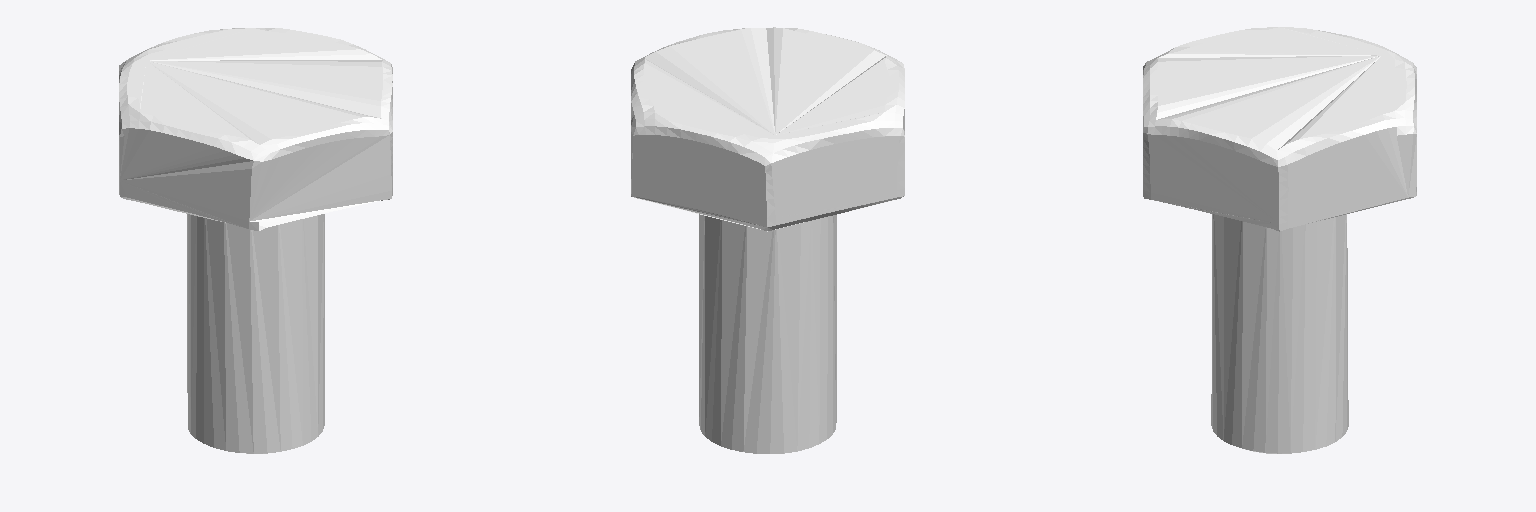
The model's file is bolt.obj.
3 views of the same model, side by side, from view 1: azimuth 30°, elevation 25°; view 2: azimuth 150°, elevation 25°; view 3: azimuth 270°, elevation 25° (orthographic).
Parts seen in each view (by area): view 1: Volume7; view 2: Volume7; view 3: Volume7.
Boxes of the visible parts, <box> form: Volume7: <box>119,28,392,453</box>; Volume7: <box>631,27,904,453</box>; Volume7: <box>1143,27,1416,453</box>.
Bounding box in the file's own units: 139 × 167 × 120.